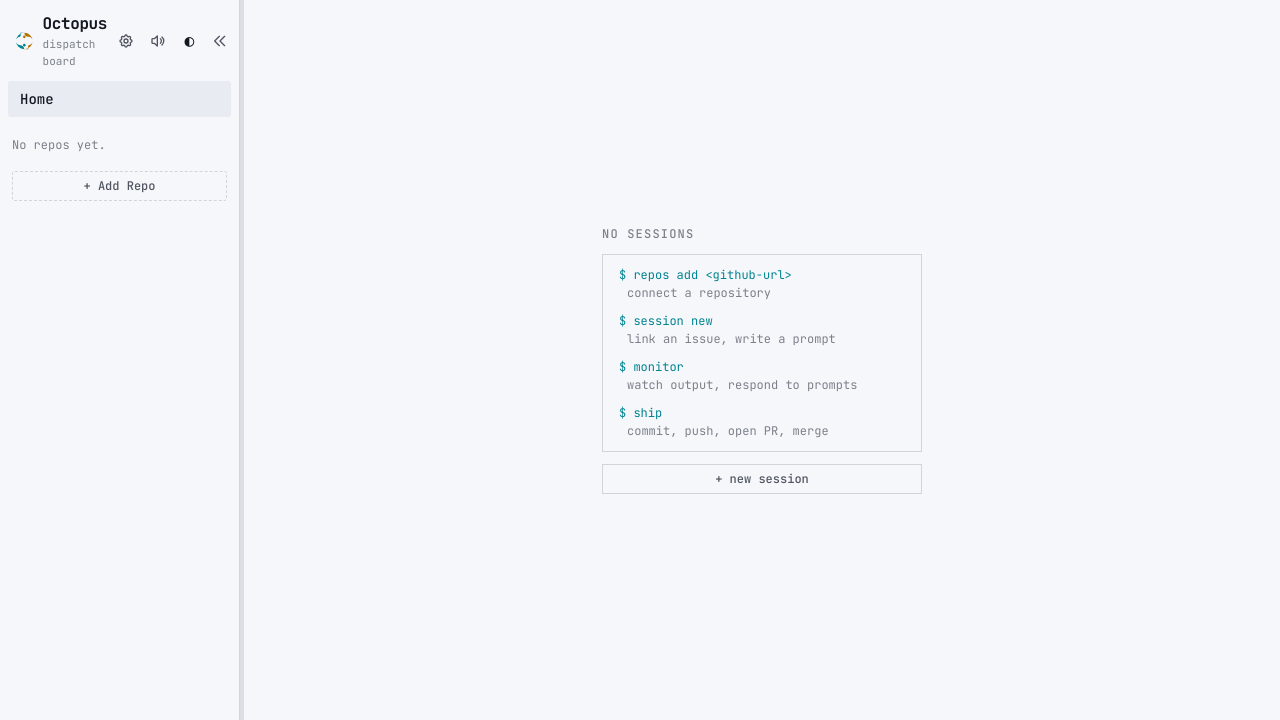
Settings modal › opens settings via the sidebar gear button
Check: the heading "Octopus" is shown, box [43,12,112,36]
What coordinates should you click on to do the following:
click the button titled "Settings"
I would click on:
 (126, 40)
Its box is [112,26,140,54].
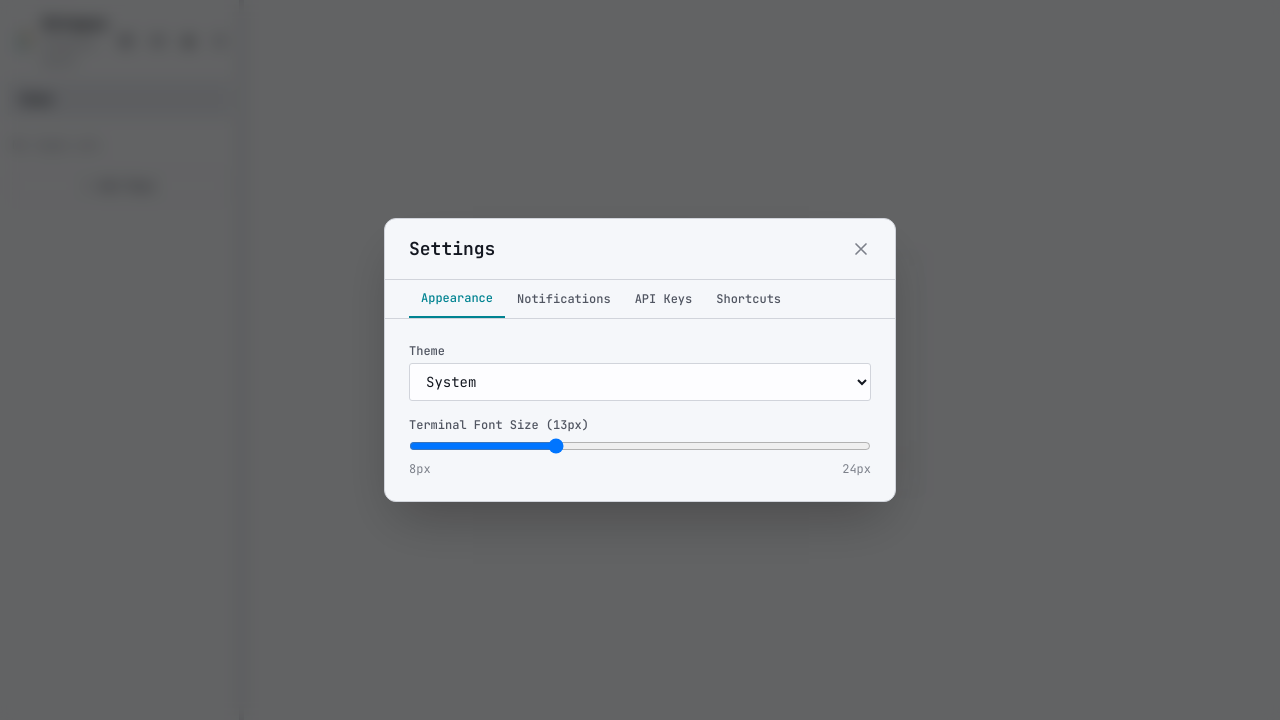
Check: the element with test id "settings-modal" is shown, box [384,218,896,502]
Check: the heading "Settings" is shown, box [409,235,495,263]
